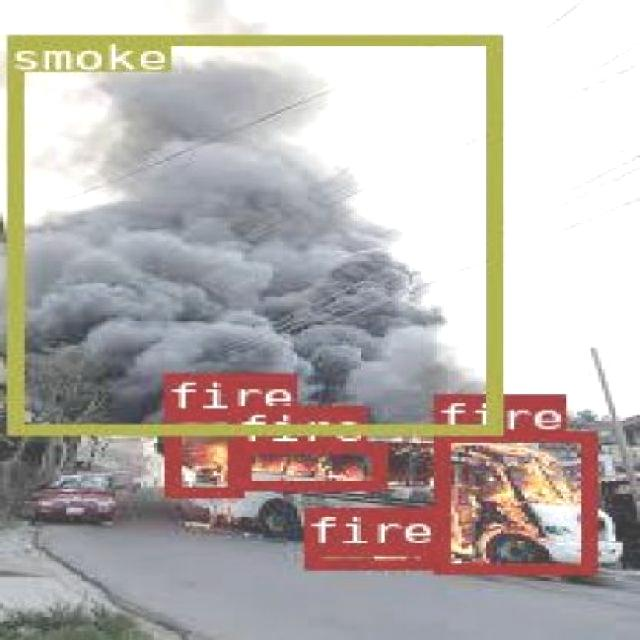fire: (433, 430, 592, 572), (162, 408, 240, 494), (233, 442, 382, 487), (303, 544, 431, 566)
smoke: (3, 33, 500, 432)
